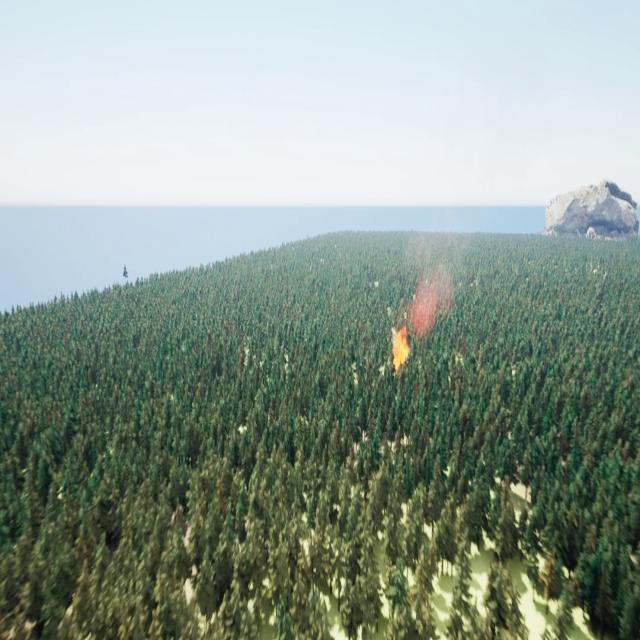fire: (390, 324, 410, 374)
smoke: (406, 262, 457, 338)
